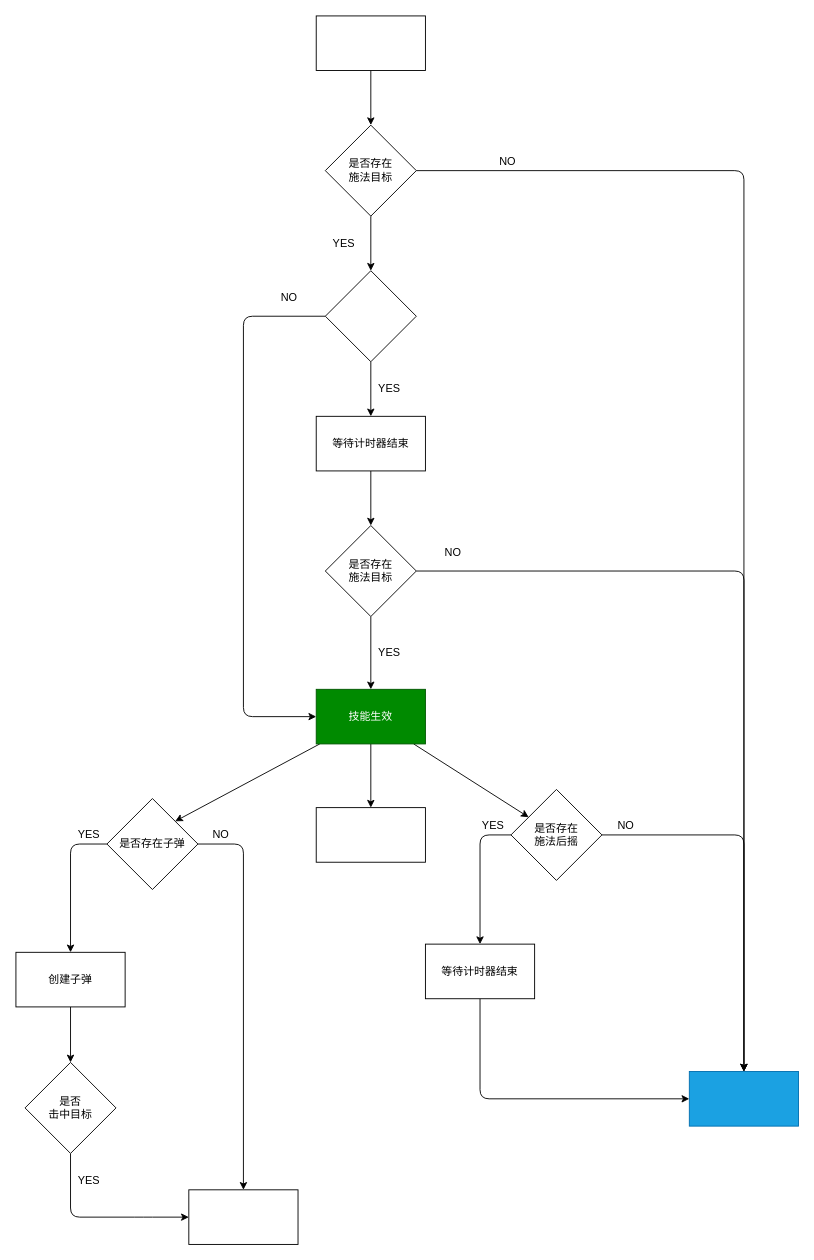
Image size: 814x1260. Some labels were removed from this diagram. Here are the shapes that lost their labels. From the top down, the centre of each, then its label:
At [370,43]: "目标技能".
At [370,316]: "是否存在 施法前摇".
At [370,834]: "给自己添加buff".
At [743,1098]: "技能结束".
At [243,1216]: "计算伤害 给敌人添加buff".
